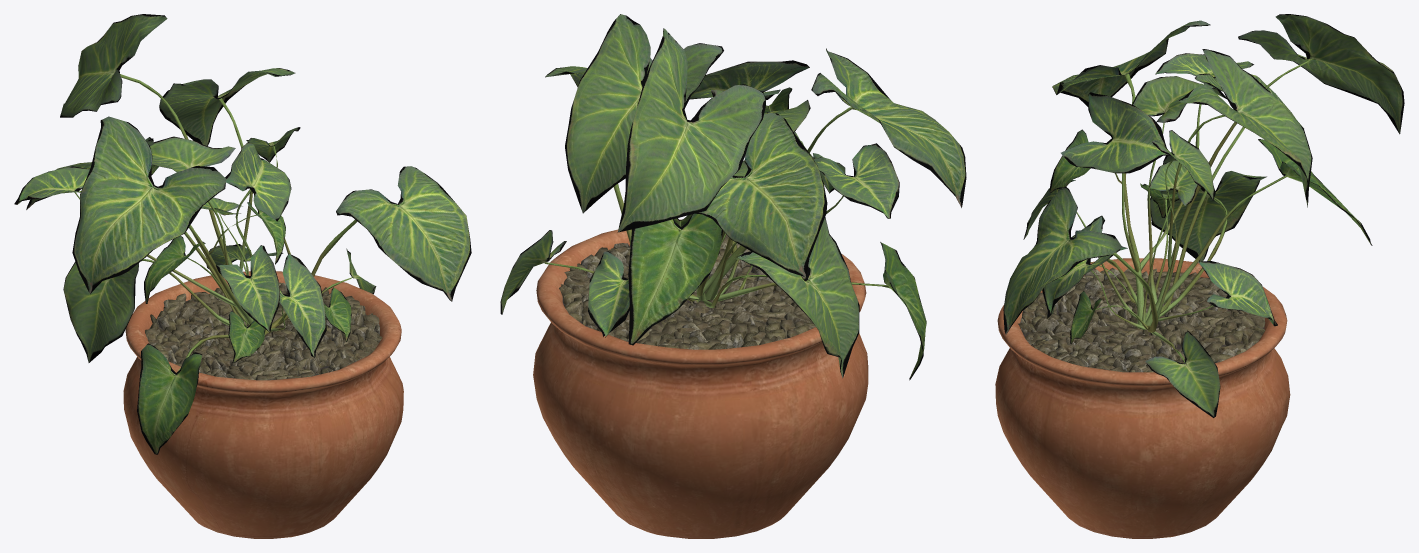
Rendered from potted_plant_02_lod1.glb.
The picture shows the model from 3 angles, left to right: view 1: azimuth 30°, elevation 25°; view 2: azimuth 150°, elevation 25°; view 3: azimuth 270°, elevation 25°; orthographic projection. The views are drawn at different scales.
Visible parts, largest first — view 1: potted_plant_02_leaves, potted_plant_02_pot, potted_plant_02_dirt; view 2: potted_plant_02_leaves, potted_plant_02_pot, potted_plant_02_dirt; view 3: potted_plant_02_leaves, potted_plant_02_pot, potted_plant_02_dirt.
Boxes of the visible parts, bbox=[...] form: potted_plant_02_leaves: bbox=[14, 14, 471, 454]; potted_plant_02_pot: bbox=[123, 271, 403, 538]; potted_plant_02_dirt: bbox=[145, 282, 382, 380]; potted_plant_02_leaves: bbox=[500, 14, 966, 380]; potted_plant_02_pot: bbox=[533, 219, 868, 538]; potted_plant_02_dirt: bbox=[559, 235, 815, 349]; potted_plant_02_leaves: bbox=[1003, 14, 1404, 417]; potted_plant_02_pot: bbox=[995, 258, 1290, 538]; potted_plant_02_dirt: bbox=[1018, 268, 1265, 372].
Size of the model in its own units: 0.7007 by 0.8412 by 0.6561.
Materials: 2 (2 with a texture image).
